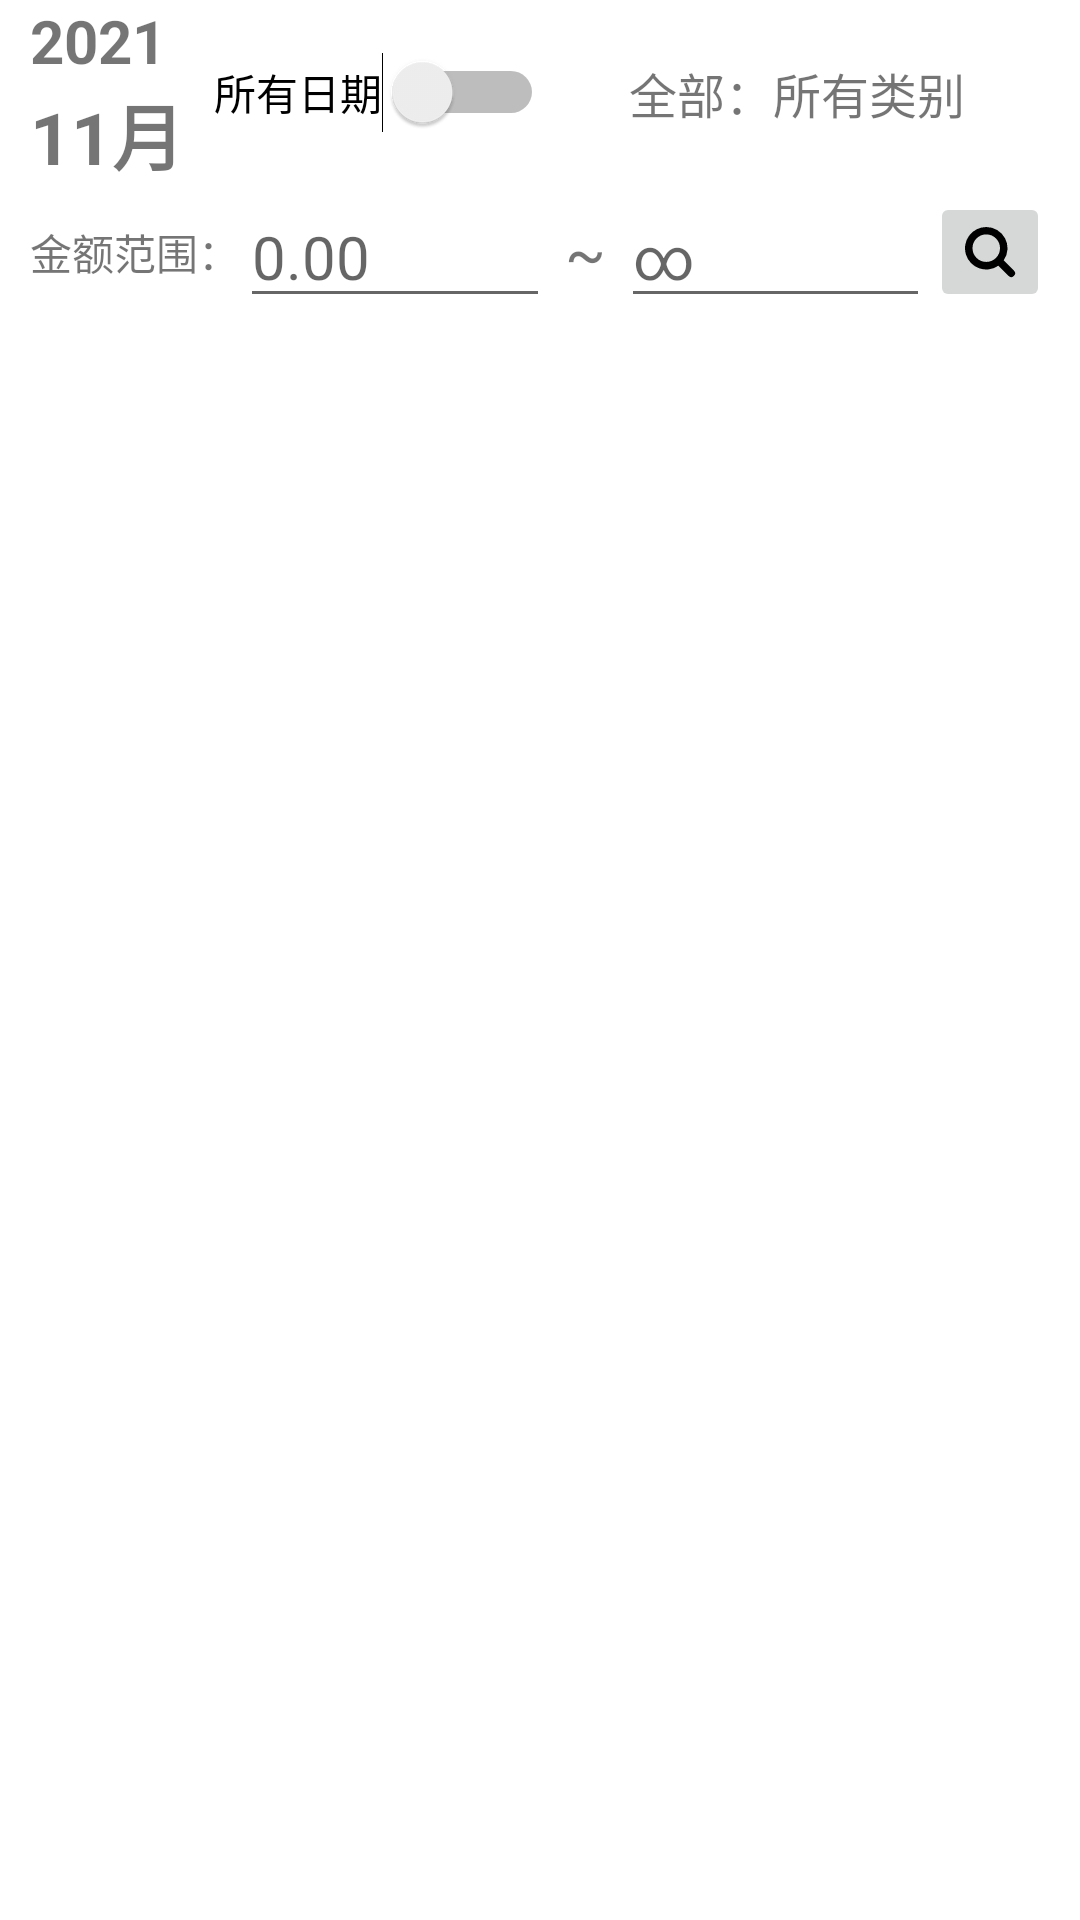

Locate icon controls on the screen. Image size 1080w x 1920h, boxes as bbox=[x1, y1, x2, y2].
search: bbox=[942, 210, 1038, 294]
